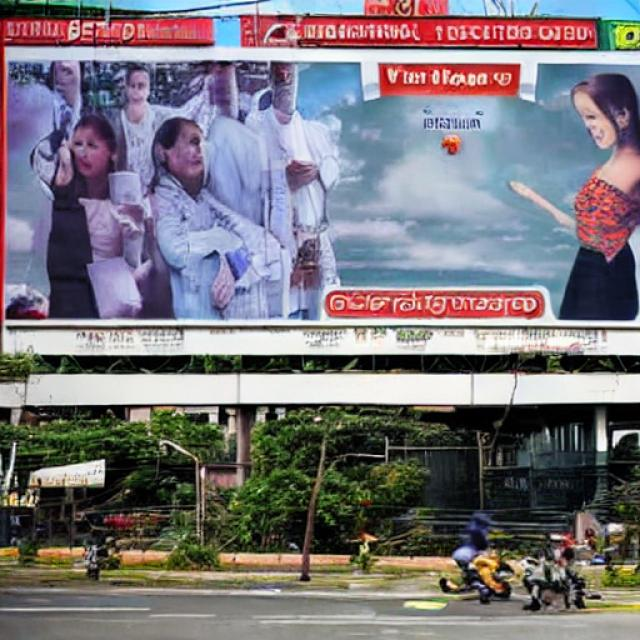Billboard: (0, 14, 640, 346)
